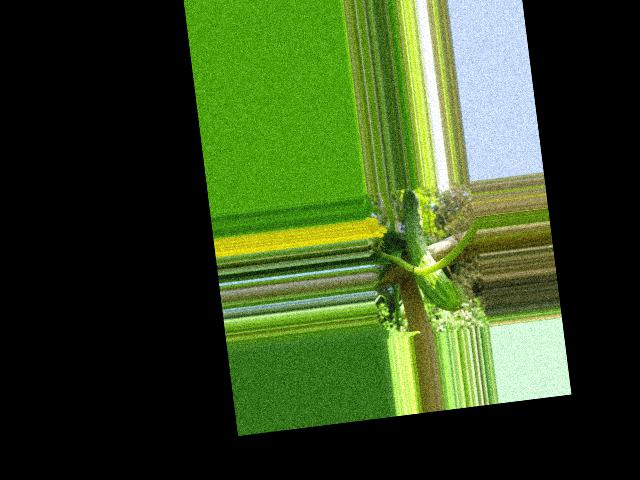cucumber: (399, 183, 462, 316)
